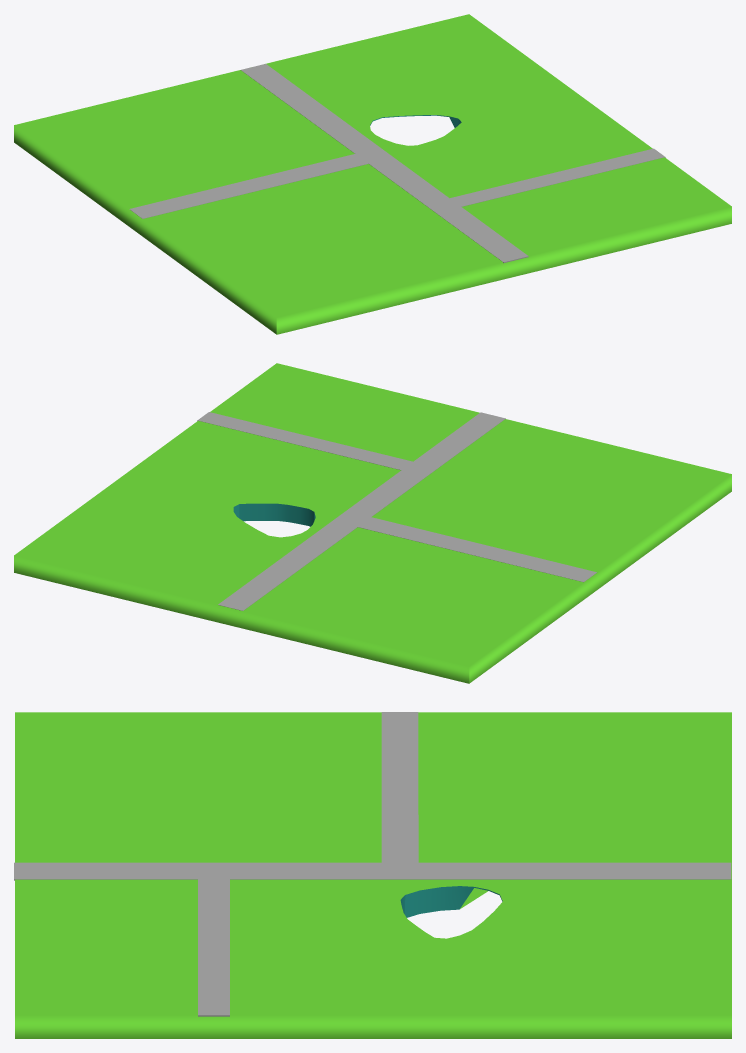
Rendered from roadThick.fbx.
3 renders of one model, top to bottom at view 1: azimuth 30°, elevation 25°; view 2: azimuth 150°, elevation 25°; view 3: azimuth 270°, elevation 25°, orthographic. The views are drawn at different scales.
Parts seen in each view (by area): view 1: mainStreet2; view 2: mainStreet2; view 3: mainStreet2.
Part boxes in pixels (x1,y1,x2,y2): mainStreet2: (14,14,731,334); mainStreet2: (14,363,731,683); mainStreet2: (14,712,731,1038).
Size of the model in its own units: 9790 by 360 by 9790.
